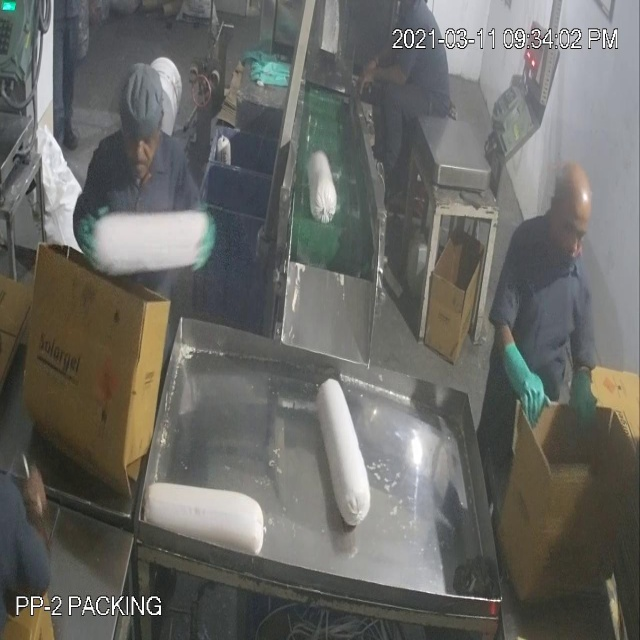Guantes: (488, 331, 546, 422)
Sin_guantes: (17, 452, 66, 552), (354, 52, 416, 101)
